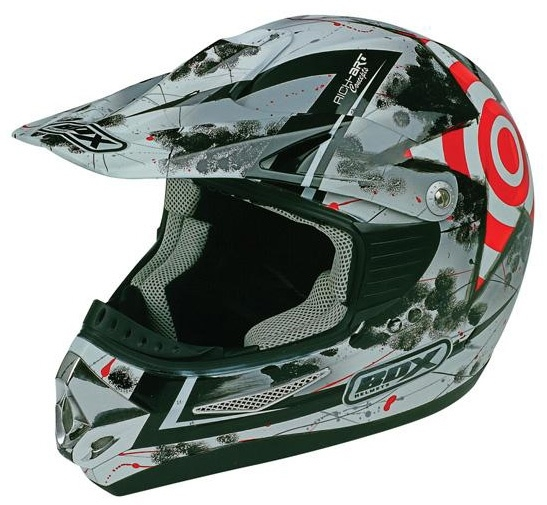helmet: (41, 22, 520, 455)
